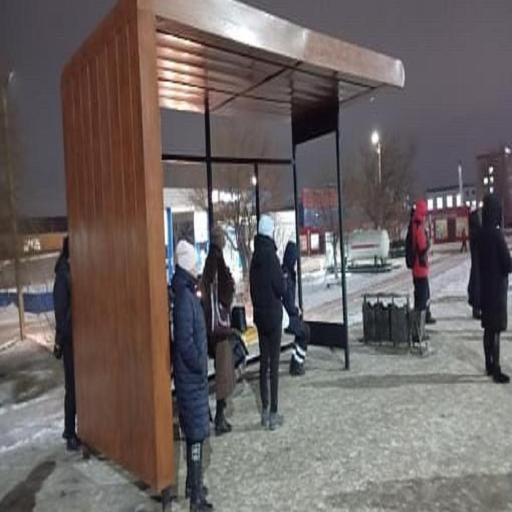book: (61, 0, 404, 499)
laptop: (172, 239, 213, 511), (250, 215, 285, 430), (478, 195, 511, 383)
